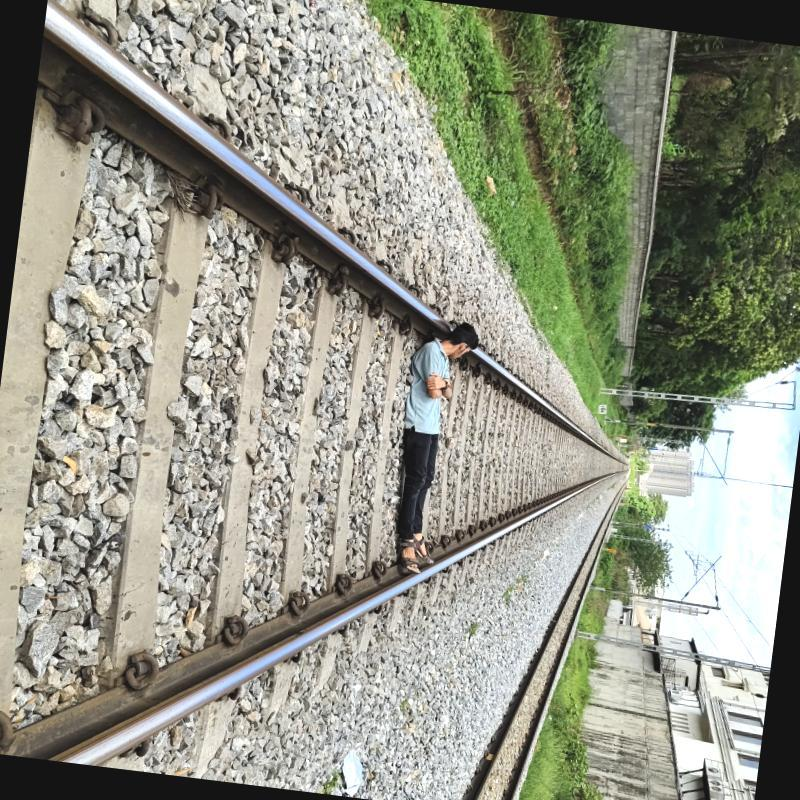sleeping: (377, 313, 482, 593)
